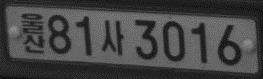0: (162, 20, 185, 62)
1: (74, 14, 93, 58), (190, 21, 208, 64)
3: (133, 18, 158, 61)
6: (216, 23, 242, 65)
8: (46, 13, 71, 54)
사: (100, 17, 124, 57)
울산_V: (19, 11, 47, 55)
